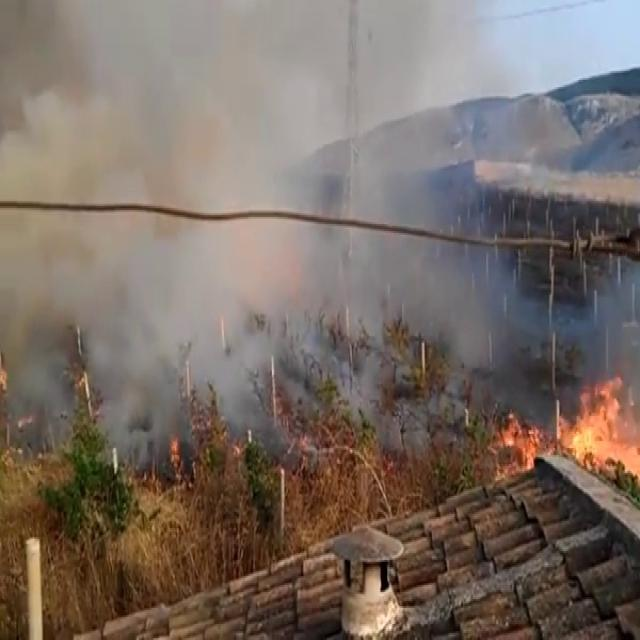Fire: (498, 370, 640, 488)
Smoke: (0, 0, 526, 453)
